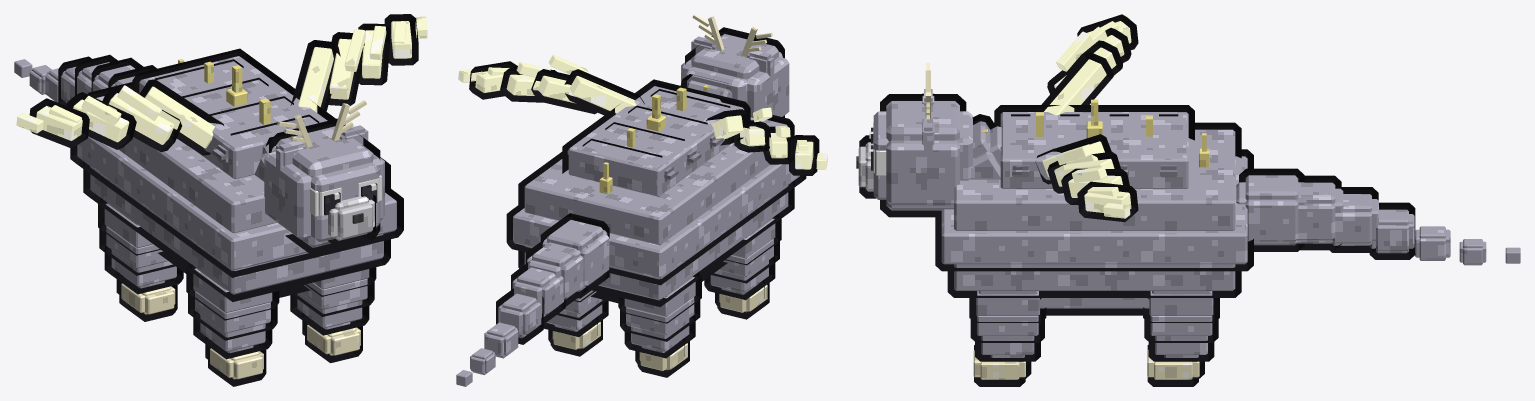
File: storm_dragon_01.glb
3 renders of one model, left to right at view 1: azimuth 30°, elevation 25°; view 2: azimuth 150°, elevation 25°; view 3: azimuth 270°, elevation 25°, orthographic. The views are drawn at different scales.
Parts seen in each view (by area): view 1: model; view 2: model; view 3: model.
Boxes of the visible parts, left/top/right/bottom form: model: left=14, top=14, right=427, bottom=386; model: left=456, top=14, right=827, bottom=386; model: left=856, top=14, right=1520, bottom=386.
Bounding box in the file's own units: 2.3 × 1.51 × 3.3.
Materials: 10 (9 with a texture image).
